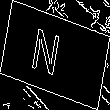N_S: (38, 25, 72, 85)
